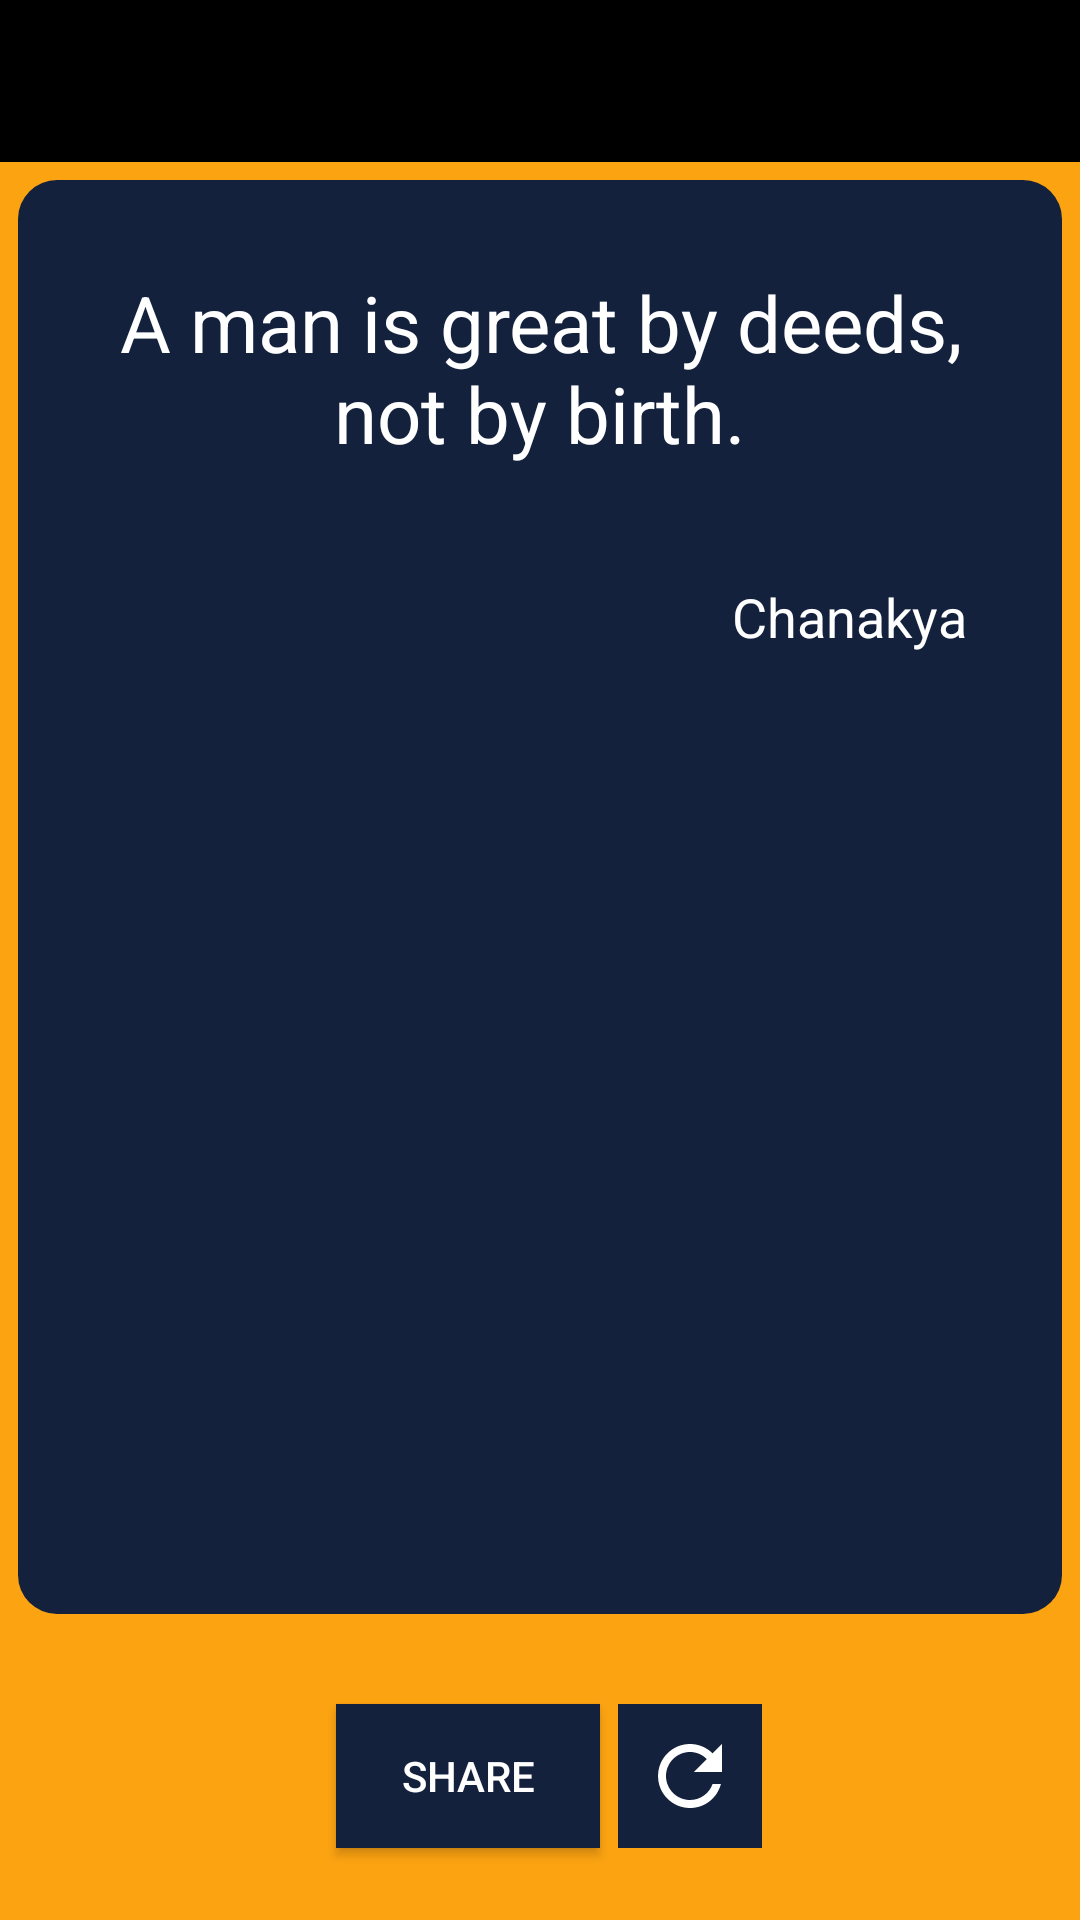

Named icons in this screenshot (1080px x 1920px) and their bounding boxes, Rect(x1, y1, x2, y2):
New Quote: Rect(618, 1704, 762, 1848)
